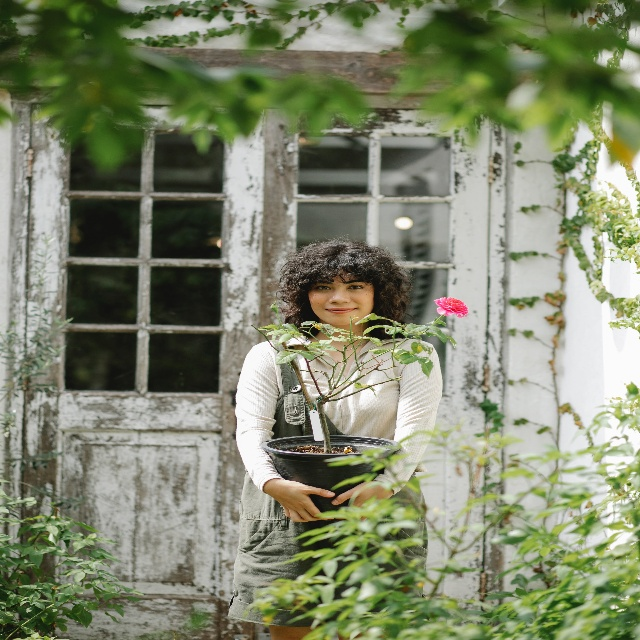Sin_guantes: (264, 478, 335, 523), (331, 480, 394, 521)
